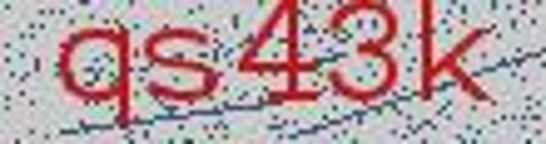3: (325, 1, 405, 113)
4: (234, 1, 321, 111)
k: (412, 1, 508, 113)
q: (55, 15, 135, 130)
s: (142, 20, 225, 106)
